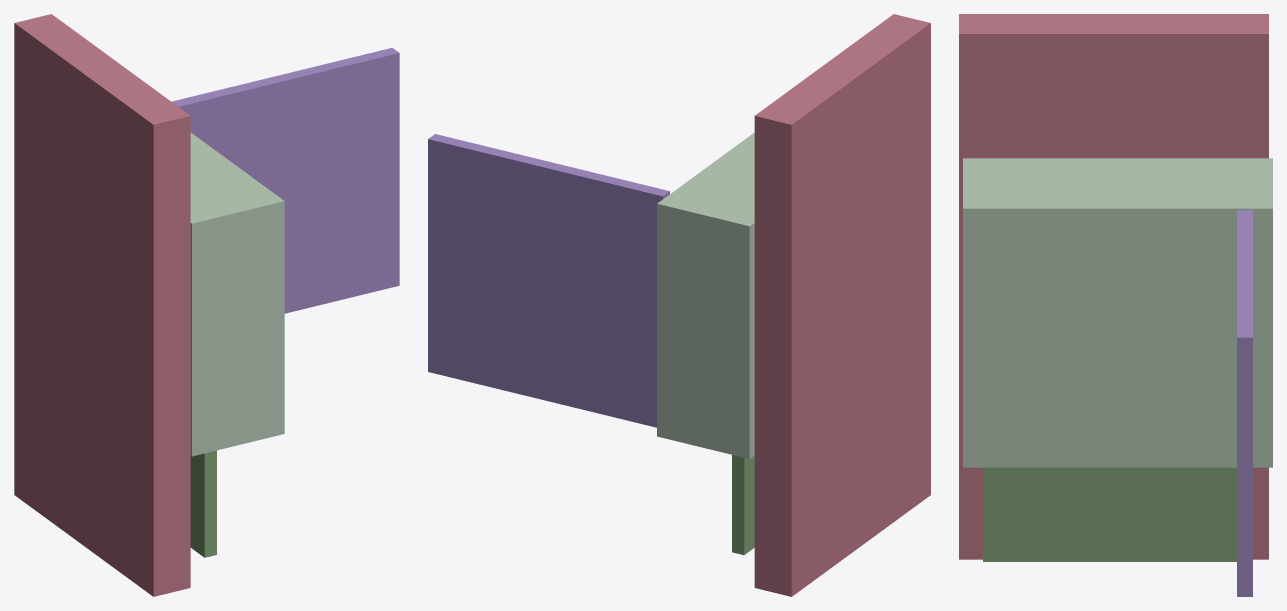
The picture shows the model from 3 angles, left to right: view 1: azimuth 30°, elevation 25°; view 2: azimuth 150°, elevation 25°; view 3: azimuth 270°, elevation 25°; orthographic projection. The views are drawn at different scales.
Visible parts, largest first — view 1: world; view 2: world; view 3: world.
Part boxes in pixels (left/top/right/bottom): world: left=14, top=14, right=399, bottom=596; world: left=428, top=14, right=930, bottom=596; world: left=959, top=14, right=1272, bottom=596.
Bounding box in the file's own units: 6 × 7.3 × 3.95.
